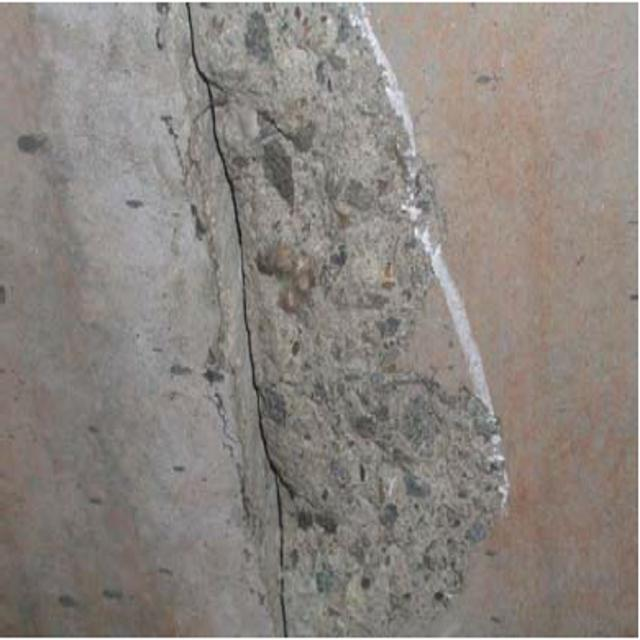spalling: (156, 26, 484, 628)
